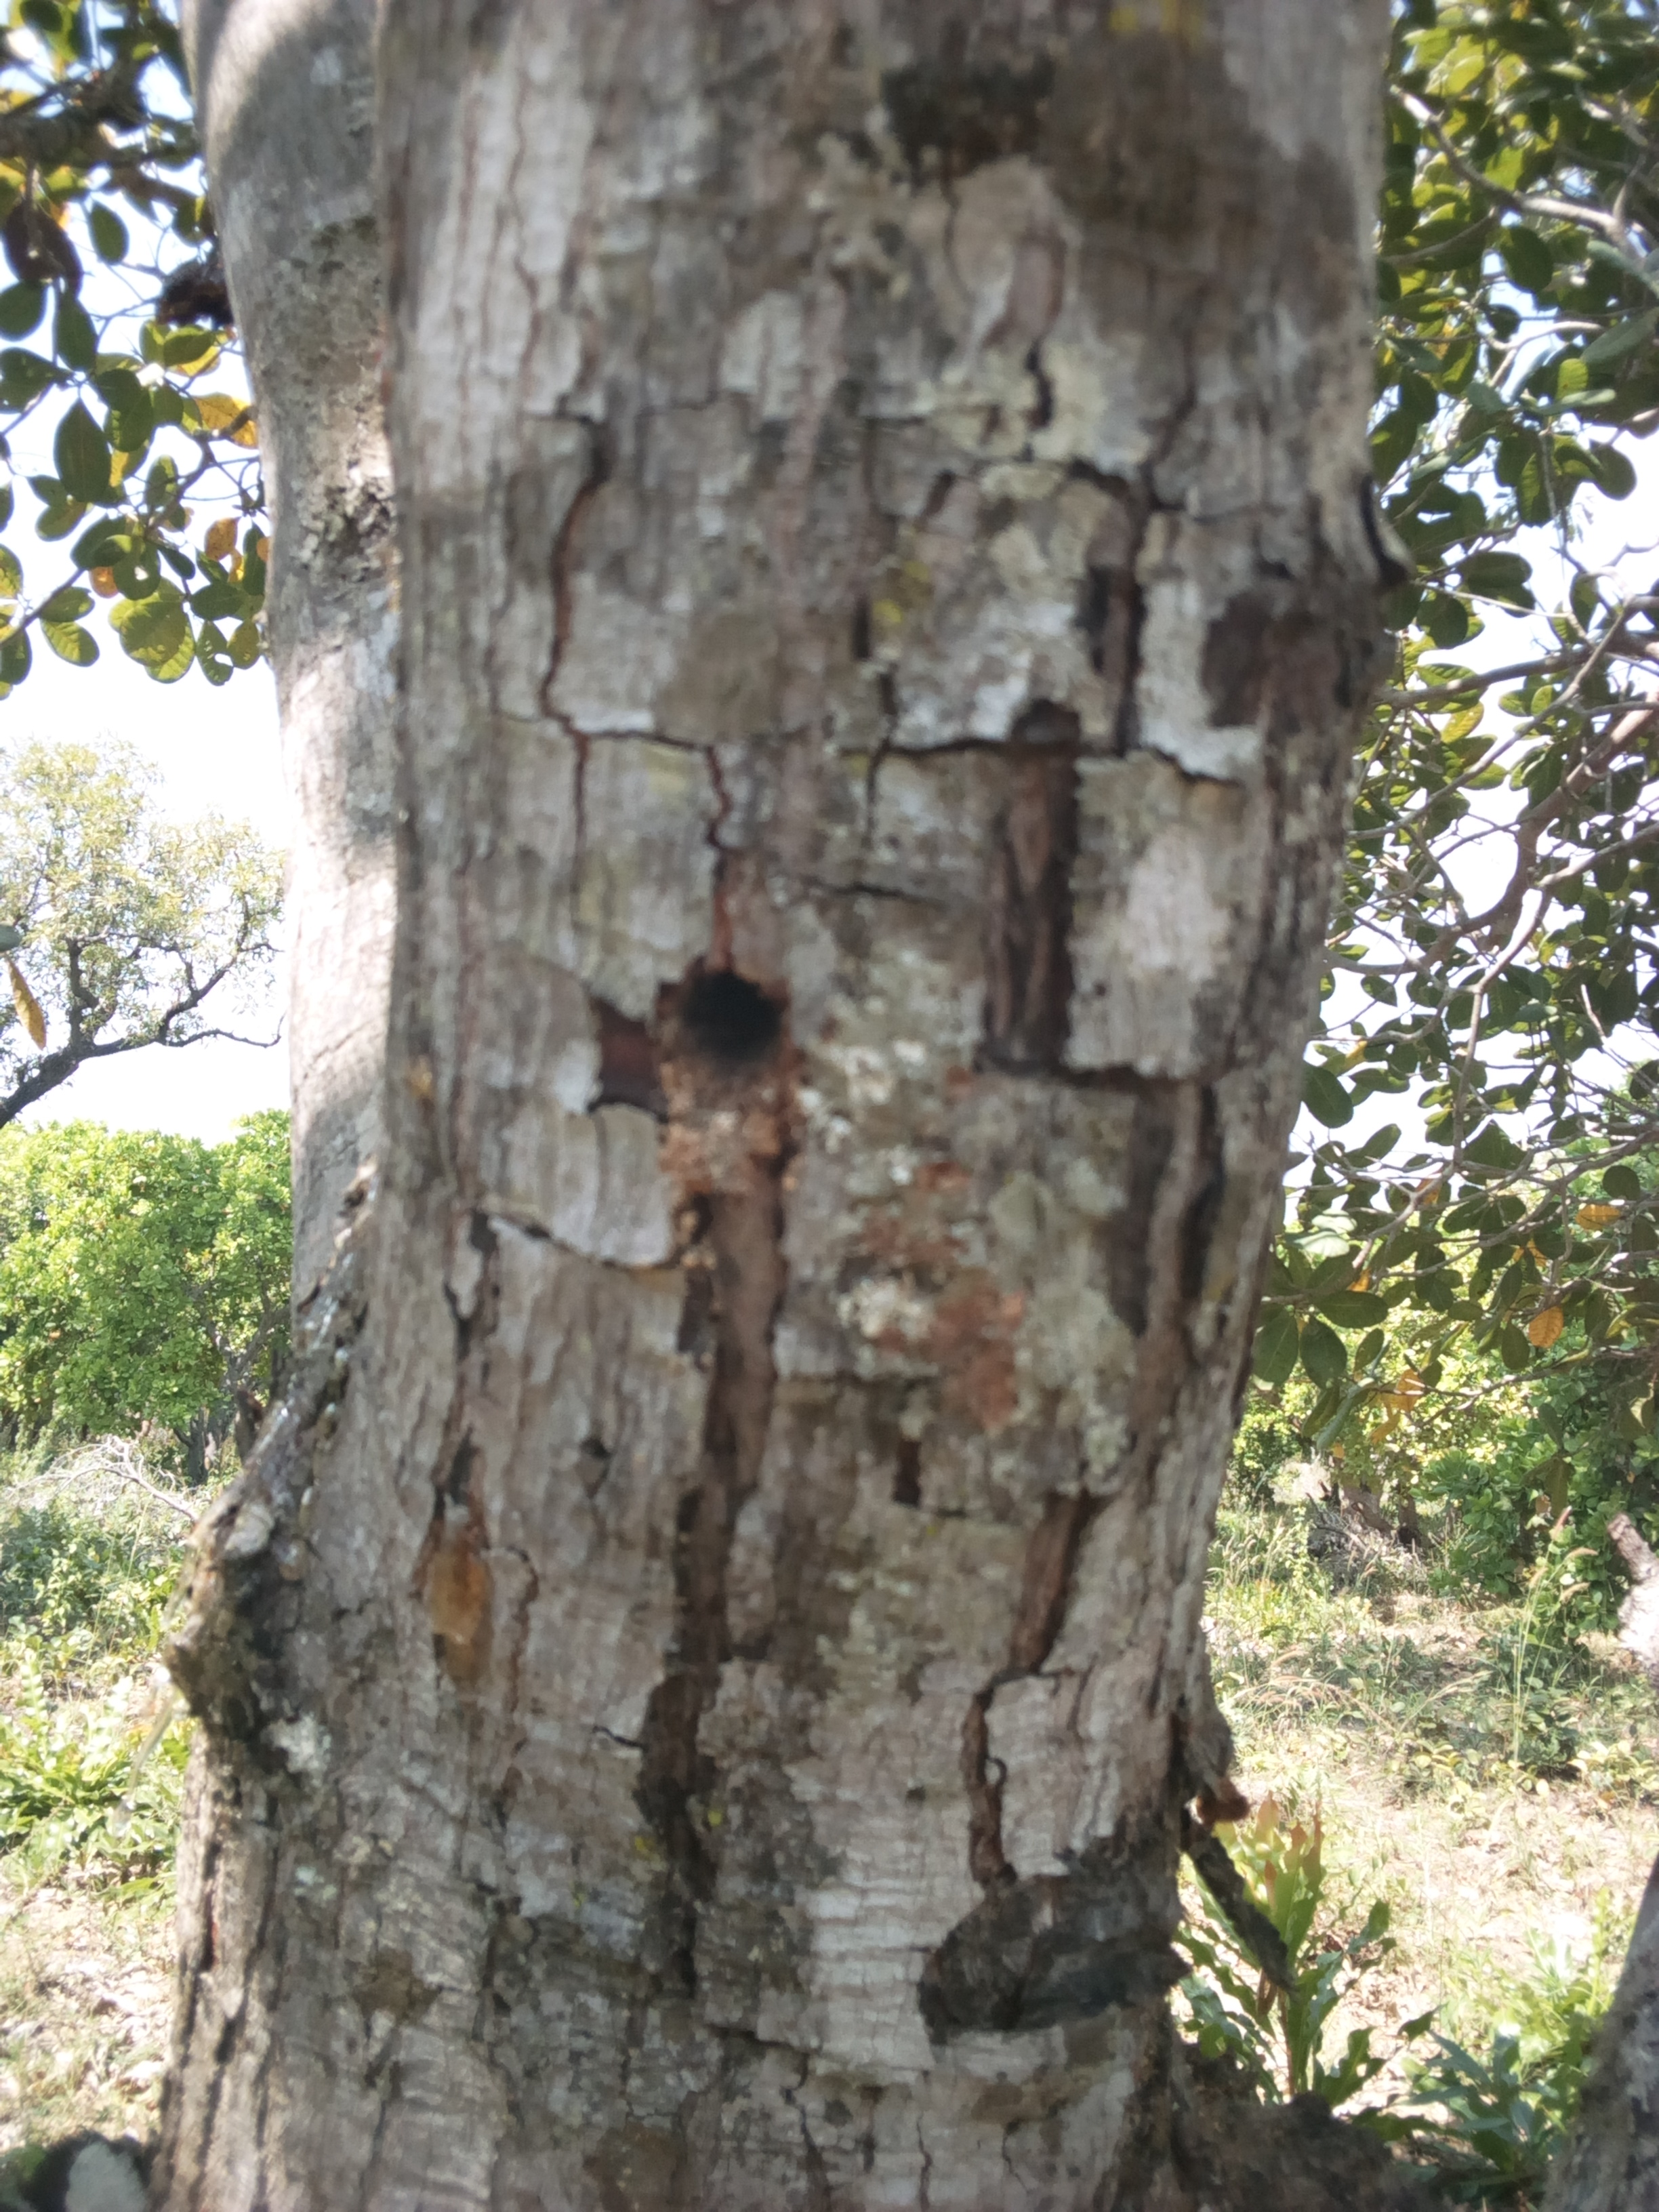Apate terebrans: (589, 944, 877, 1200)
